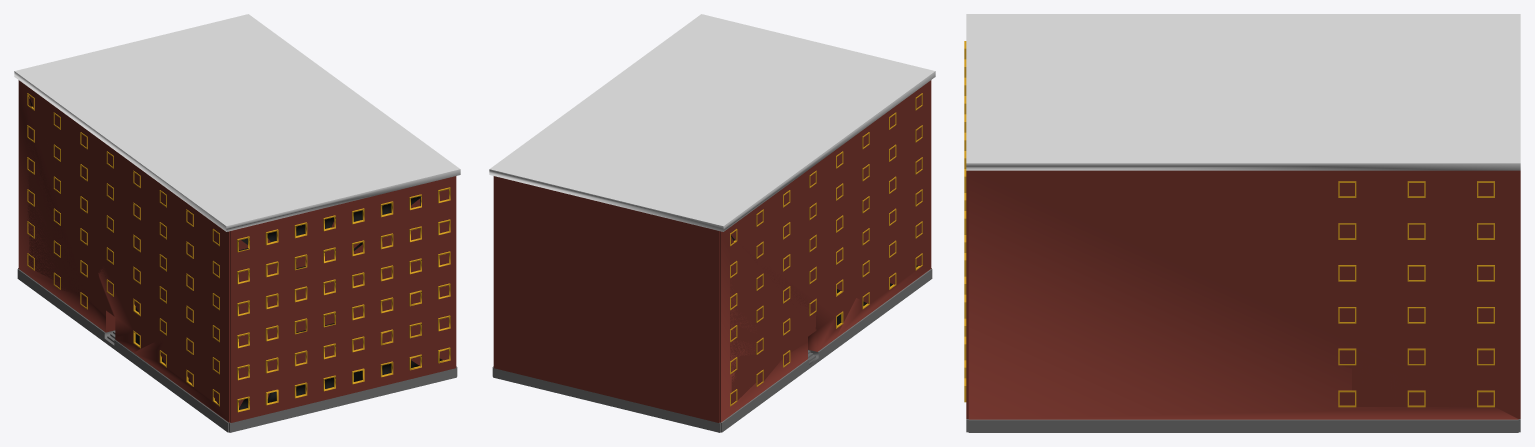
Rendered from BCR40_F06_02.fbx.
The picture shows the model from 3 angles, left to right: view 1: azimuth 30°, elevation 25°; view 2: azimuth 150°, elevation 25°; view 3: azimuth 270°, elevation 25°; orthographic projection. The views are drawn at different scales.
Parts seen in each view (by area): view 1: BCR40_F06_02; view 2: BCR40_F06_02; view 3: BCR40_F06_02.
Boxes of the visible parts, box(x1,y1,x2,y2) form: BCR40_F06_02: box(14, 14, 460, 432); BCR40_F06_02: box(489, 14, 935, 432); BCR40_F06_02: box(964, 14, 1520, 432).
Size of the model in its own units: 2550 by 2160 by 4015.
